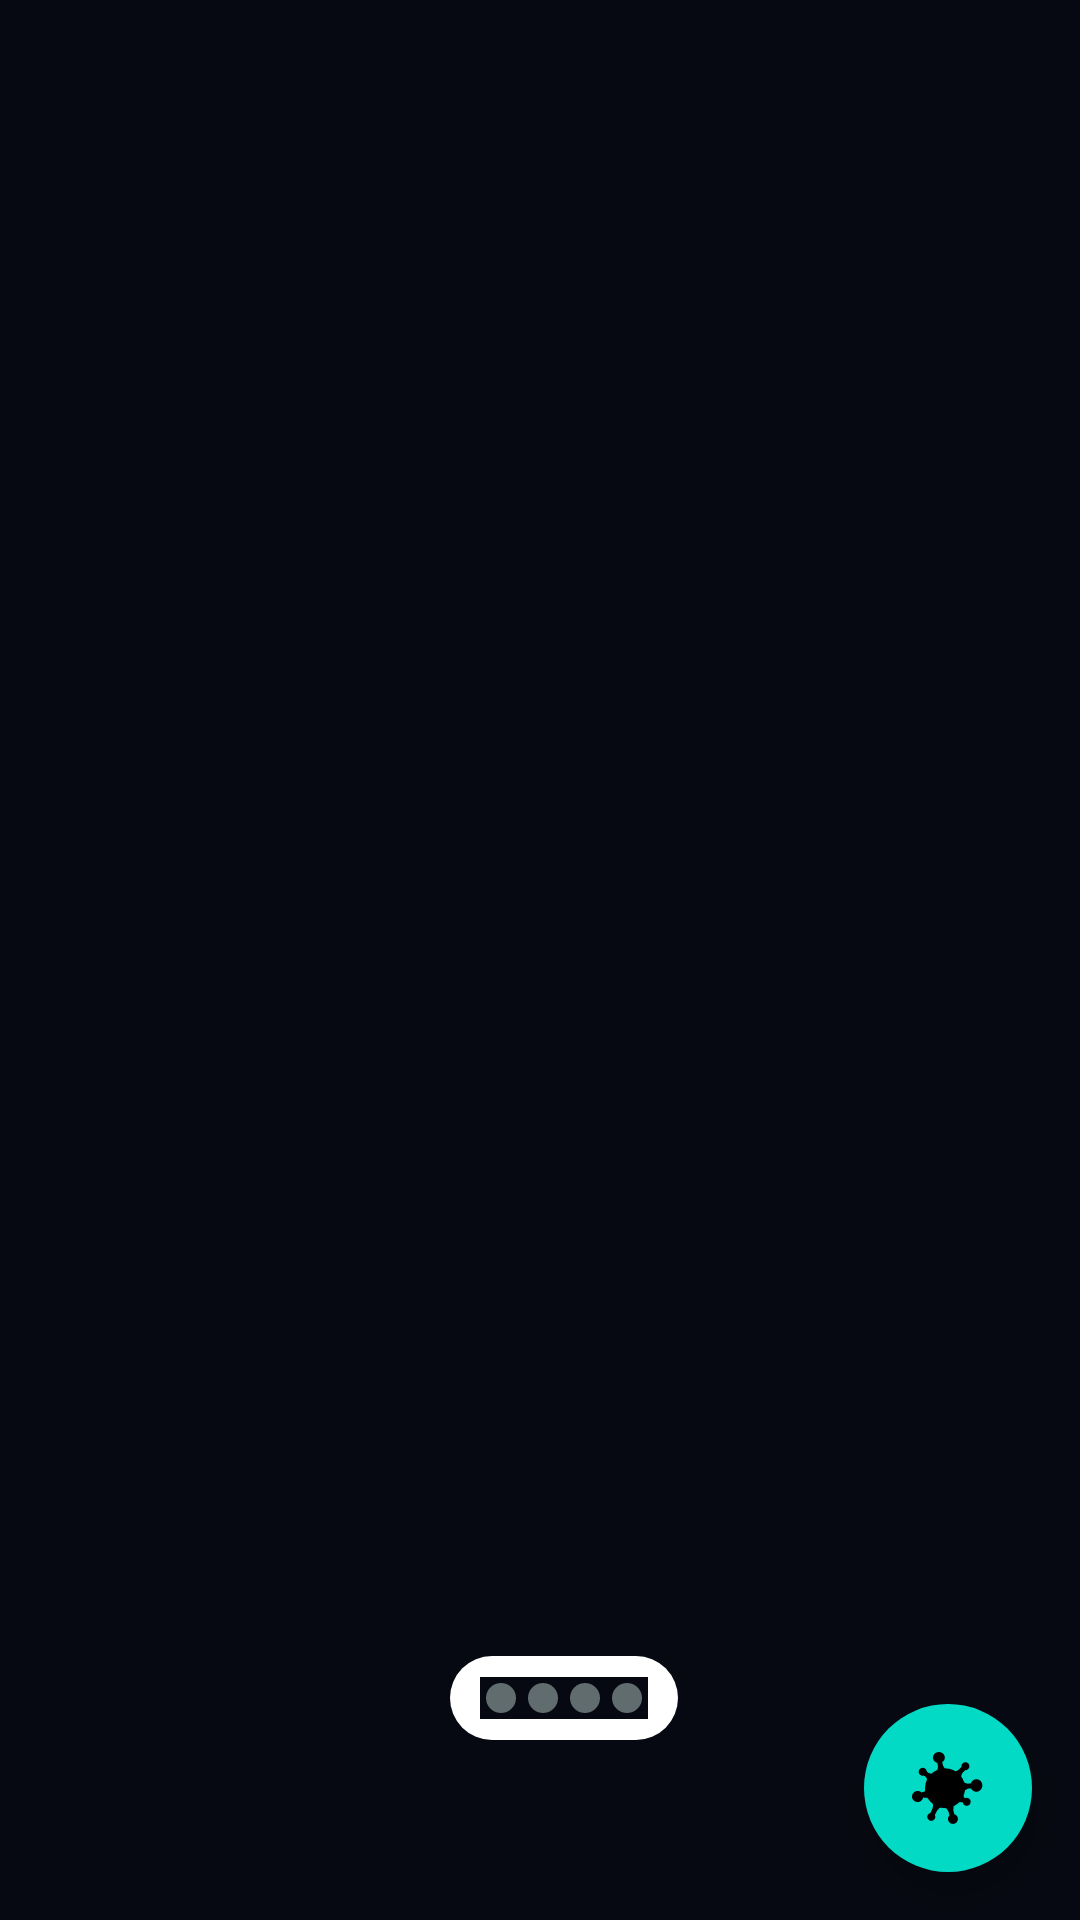

Icon bounding boxes for this 1080px×1920px phone screenshot, format (x1, y1, x2, y2):
virus: (864, 1704, 1032, 1872)
